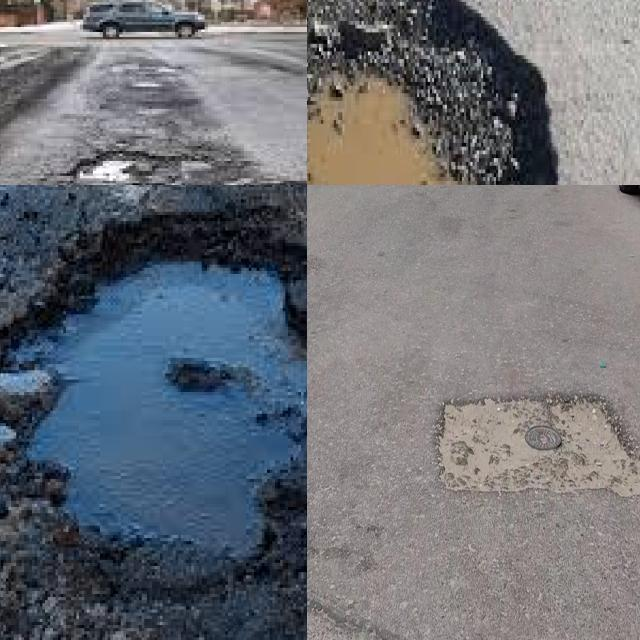Pothole: (6, 258, 307, 582), (307, 0, 564, 185), (433, 386, 640, 502), (70, 151, 208, 185)
